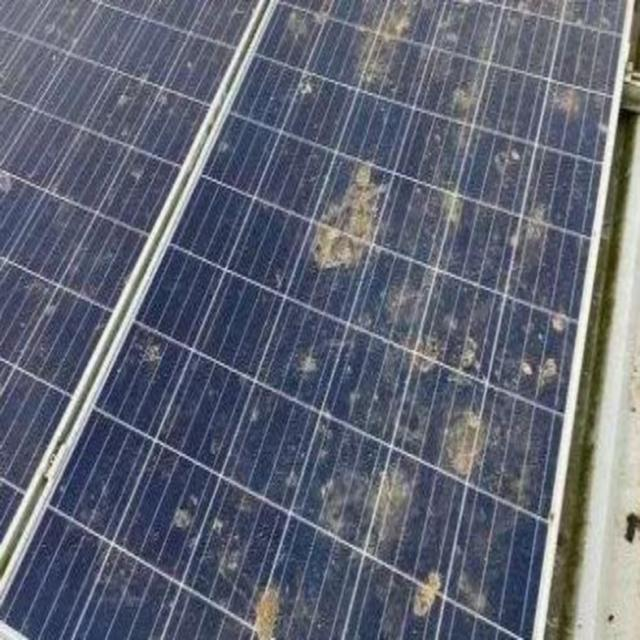soiled: (1, 2, 614, 640)
